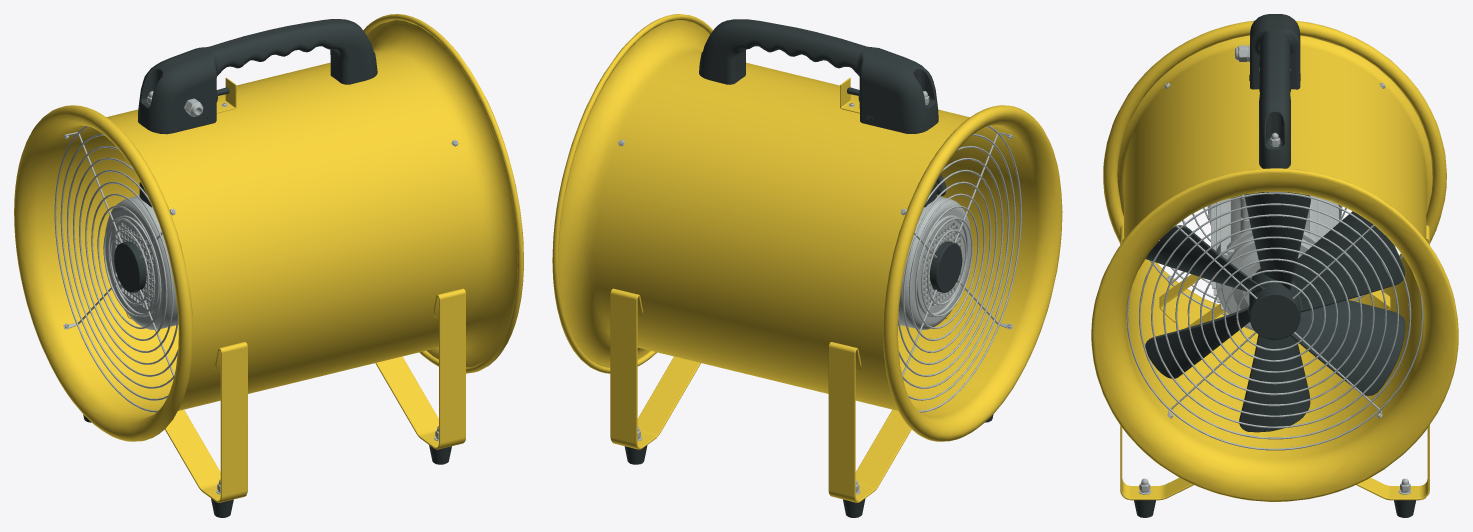
The model's file is climate_shopFan_airMover_a01.glb.
3 views of the same model, side by side, from view 1: azimuth 30°, elevation 25°; view 2: azimuth 150°, elevation 25°; view 3: azimuth 270°, elevation 25° (orthographic).
Bounding box in the file's own units: 0.4002 × 0.4639 × 0.3797.
